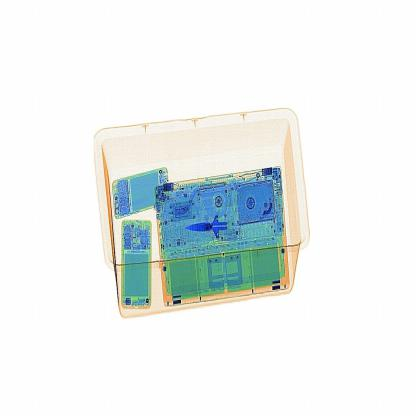gun: (181, 202, 244, 246)
